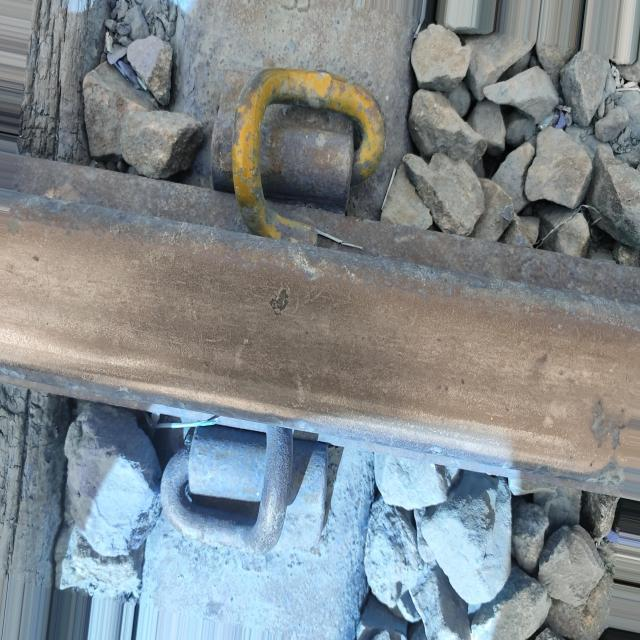broken_rail_medium: (591, 395, 623, 454), (269, 285, 291, 321)
